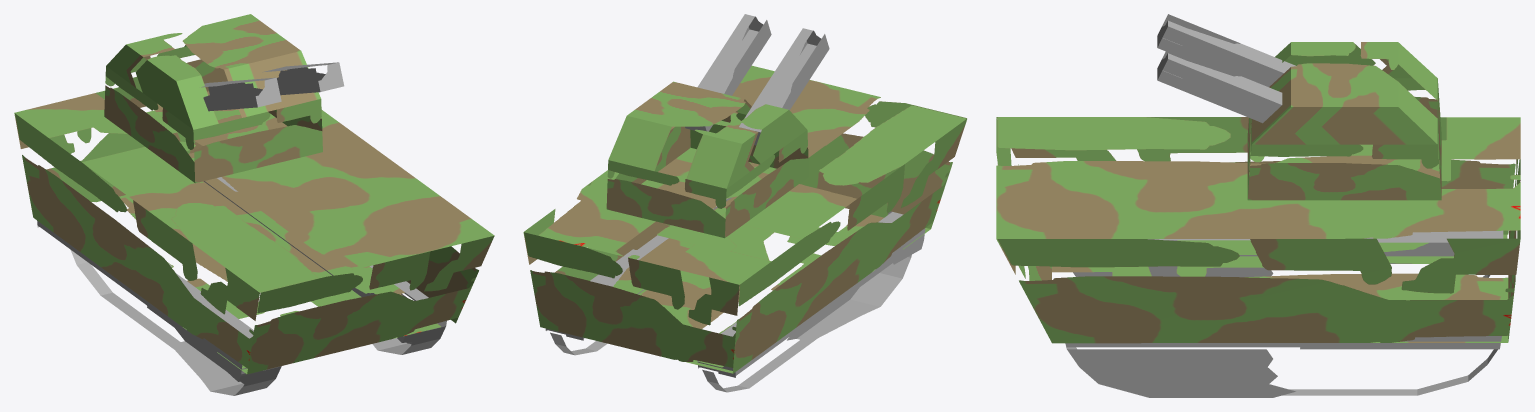
The model's file is AATankFrac.FBX.
The picture shows the model from 3 angles, left to right: view 1: azimuth 30°, elevation 25°; view 2: azimuth 150°, elevation 25°; view 3: azimuth 270°, elevation 25°; orthographic projection. The views are drawn at different scales.
Visible parts, largest first — view 1: Box003, Box004; view 2: Box003, Box004; view 3: Box003, Box004.
Boxes of the visible parts, x1=… form: Box003: x1=14, y1=87, x2=494, y2=395; Box004: x1=104, y1=14, x2=344, y2=183; Box003: x1=523, y1=65, x2=966, y2=392; Box004: x1=606, y1=14, x2=829, y2=238; Box003: x1=996, y1=117, x2=1520, y2=397; Box004: x1=1157, y1=14, x2=1441, y2=200.
Bounding box in the file's own units: 2.92 × 3.44 × 5.3.
3 materials, 3 textured.
